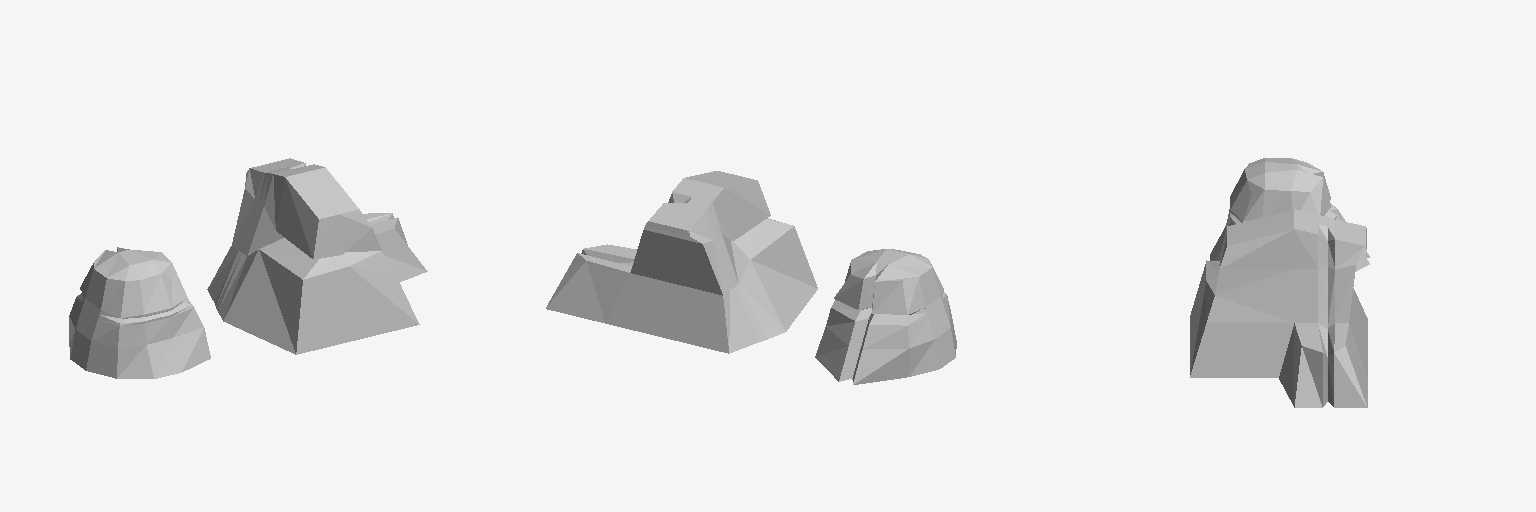
The model's file is Rock2.obj.
3 views of the same model, side by side, from view 1: azimuth 30°, elevation 25°; view 2: azimuth 150°, elevation 25°; view 3: azimuth 270°, elevation 25° (orthographic).
Visible parts, largest first — view 1: pCube1, Rock1; view 2: pCube1, Rock1; view 3: pCube1, Rock1.
Boxes of the visible parts, <box> form: pCube1: <box>207,158,427,354</box>; Rock1: <box>69,247,210,378</box>; pCube1: <box>546,171,817,353</box>; Rock1: <box>815,249,956,384</box>; pCube1: <box>1190,209,1367,407</box>; Rock1: <box>1210,158,1369,271</box>.
Bounding box in the file's own units: 4.35 × 1.5 × 1.9.